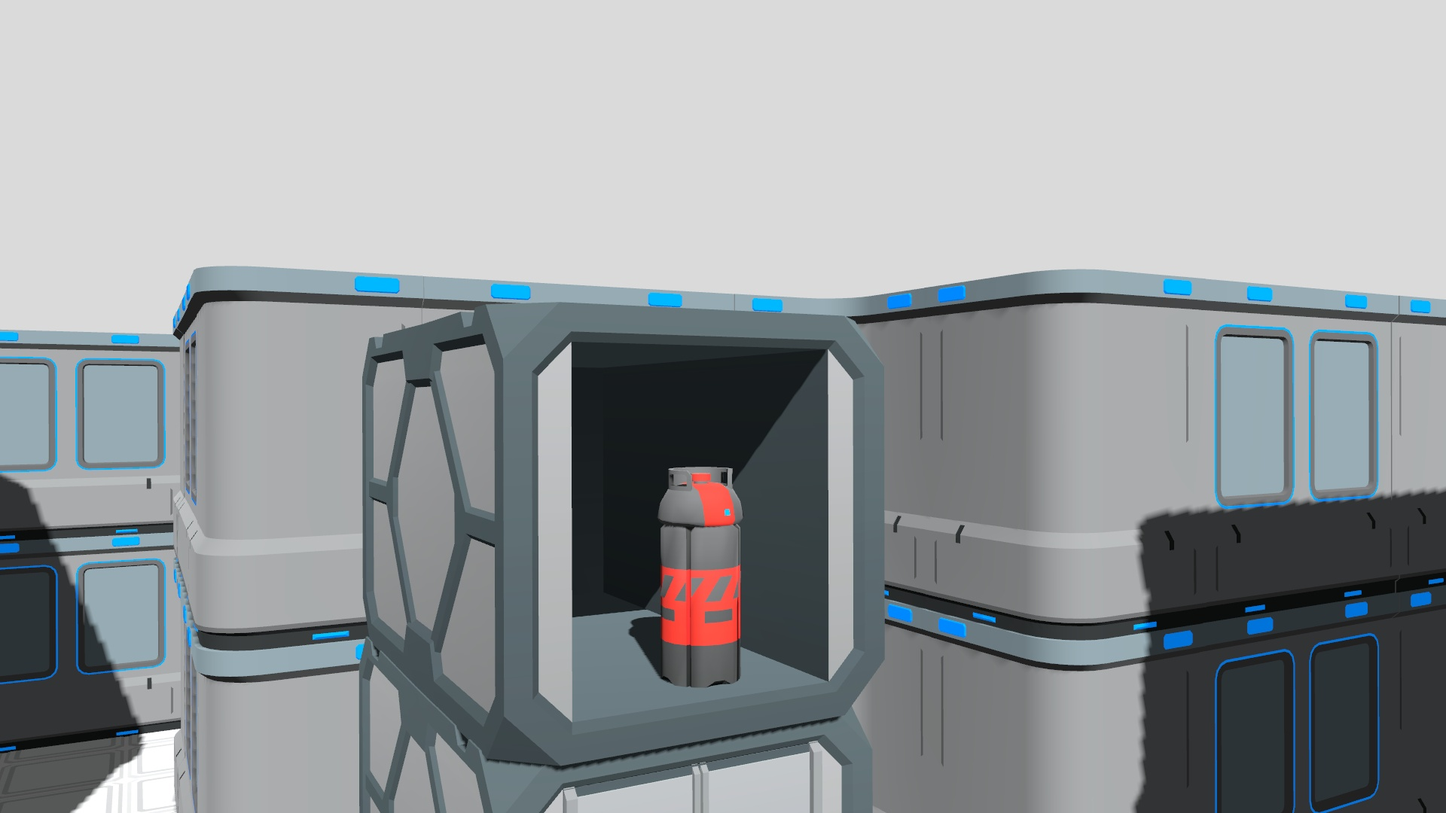red_barrel: (652, 455, 753, 693)
